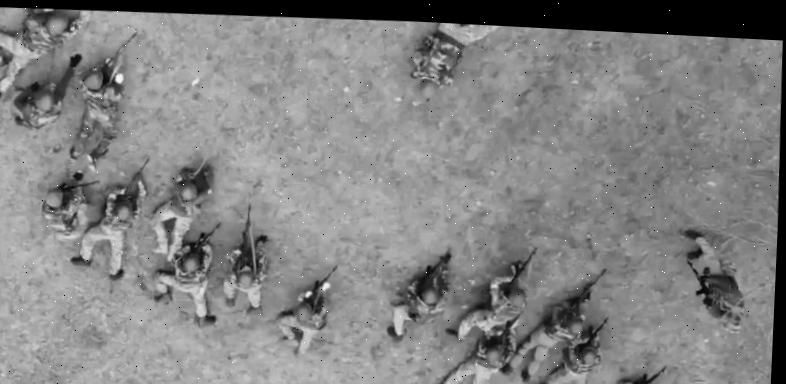person: (497, 263, 610, 384), (68, 153, 153, 282), (66, 27, 140, 173), (443, 242, 542, 347), (406, 21, 520, 107), (0, 5, 97, 105), (149, 218, 224, 329), (427, 305, 526, 384), (678, 226, 749, 335), (147, 162, 217, 264), (384, 246, 454, 344), (520, 310, 611, 384), (275, 262, 342, 360), (9, 50, 84, 132), (221, 202, 273, 318), (41, 166, 103, 242), (594, 361, 669, 384)
